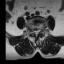CCS_normal: (35, 28, 37, 37)
LFS_stenosis: (39, 27, 41, 32)
LLS_normal: (37, 28, 39, 35)
RFS_stenosis: (31, 27, 33, 33)
RLS_normal: (33, 28, 35, 35)
